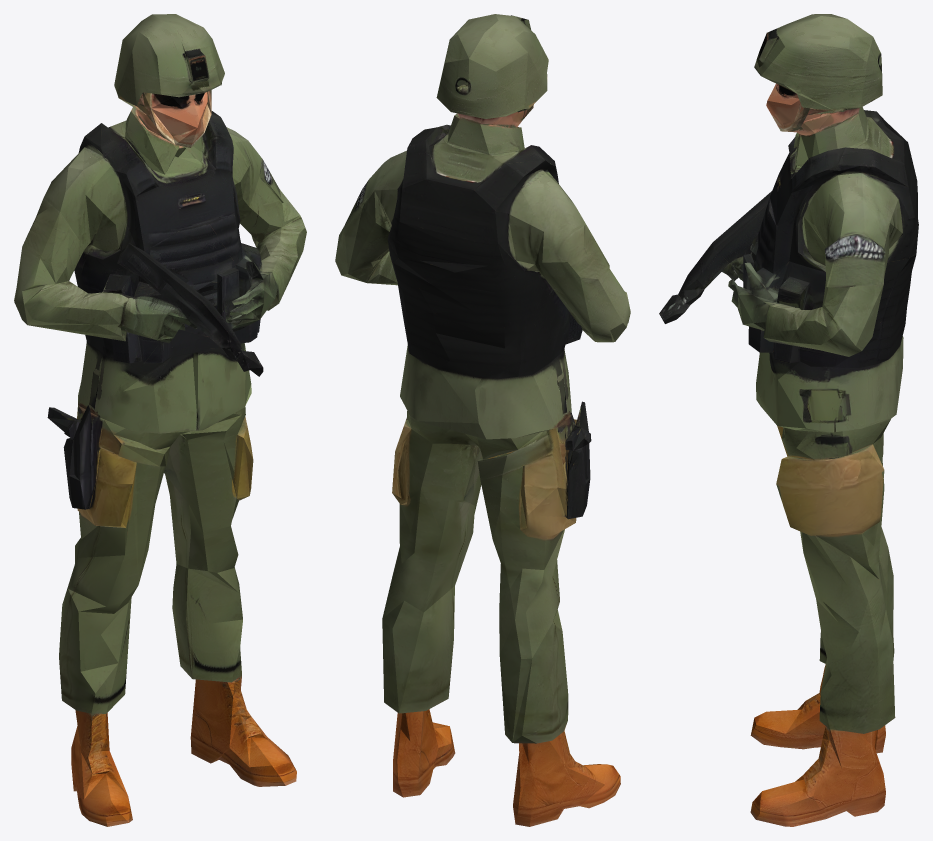
3 views of the same model, side by side, from view 1: azimuth 30°, elevation 25°; view 2: azimuth 150°, elevation 25°; view 3: azimuth 270°, elevation 25° (orthographic).
Visible parts, largest first — view 1: output_unwrapped; view 2: output_unwrapped; view 3: output_unwrapped.
Boxes of the visible parts, left/top/right/bottom form: output_unwrapped: left=14, top=14, right=306, bottom=826; output_unwrapped: left=335, top=14, right=630, bottom=826; output_unwrapped: left=659, top=14, right=918, bottom=826.
Bounding box in the file's own units: 0.7403 × 1.9 × 0.5872.
1 material, 1 textured.
